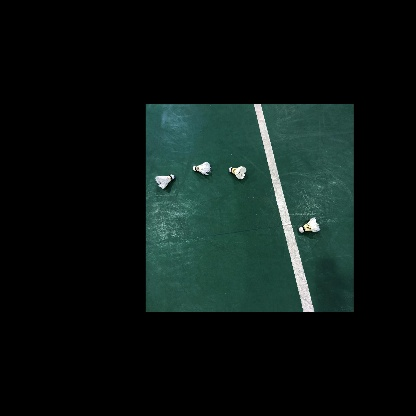ball_single: (299, 217, 320, 233), (155, 174, 174, 189), (229, 166, 246, 180), (193, 162, 211, 175)
